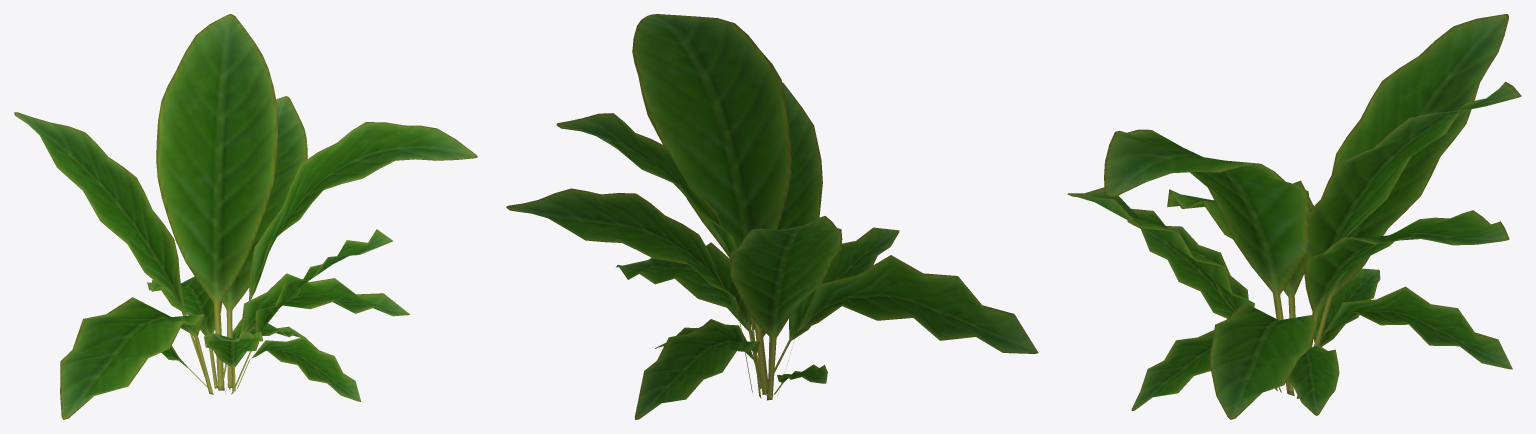
Rendered from plante-4.glb.
The picture shows the model from 3 angles, left to right: view 1: azimuth 30°, elevation 25°; view 2: azimuth 150°, elevation 25°; view 3: azimuth 270°, elevation 25°; orthographic projection. The views are drawn at different scales.
Visible parts, largest first — view 1: Object_5.480; view 2: Object_5.480; view 3: Object_5.480.
Boxes of the visible parts, x1,y1,x2,y2 form: Object_5.480: [14, 14, 477, 419]; Object_5.480: [506, 14, 1038, 419]; Object_5.480: [1067, 14, 1521, 419].
Size of the model in its own units: 0.9234 by 0.6624 by 0.7636.
Materials: 1 (1 with a texture image).
